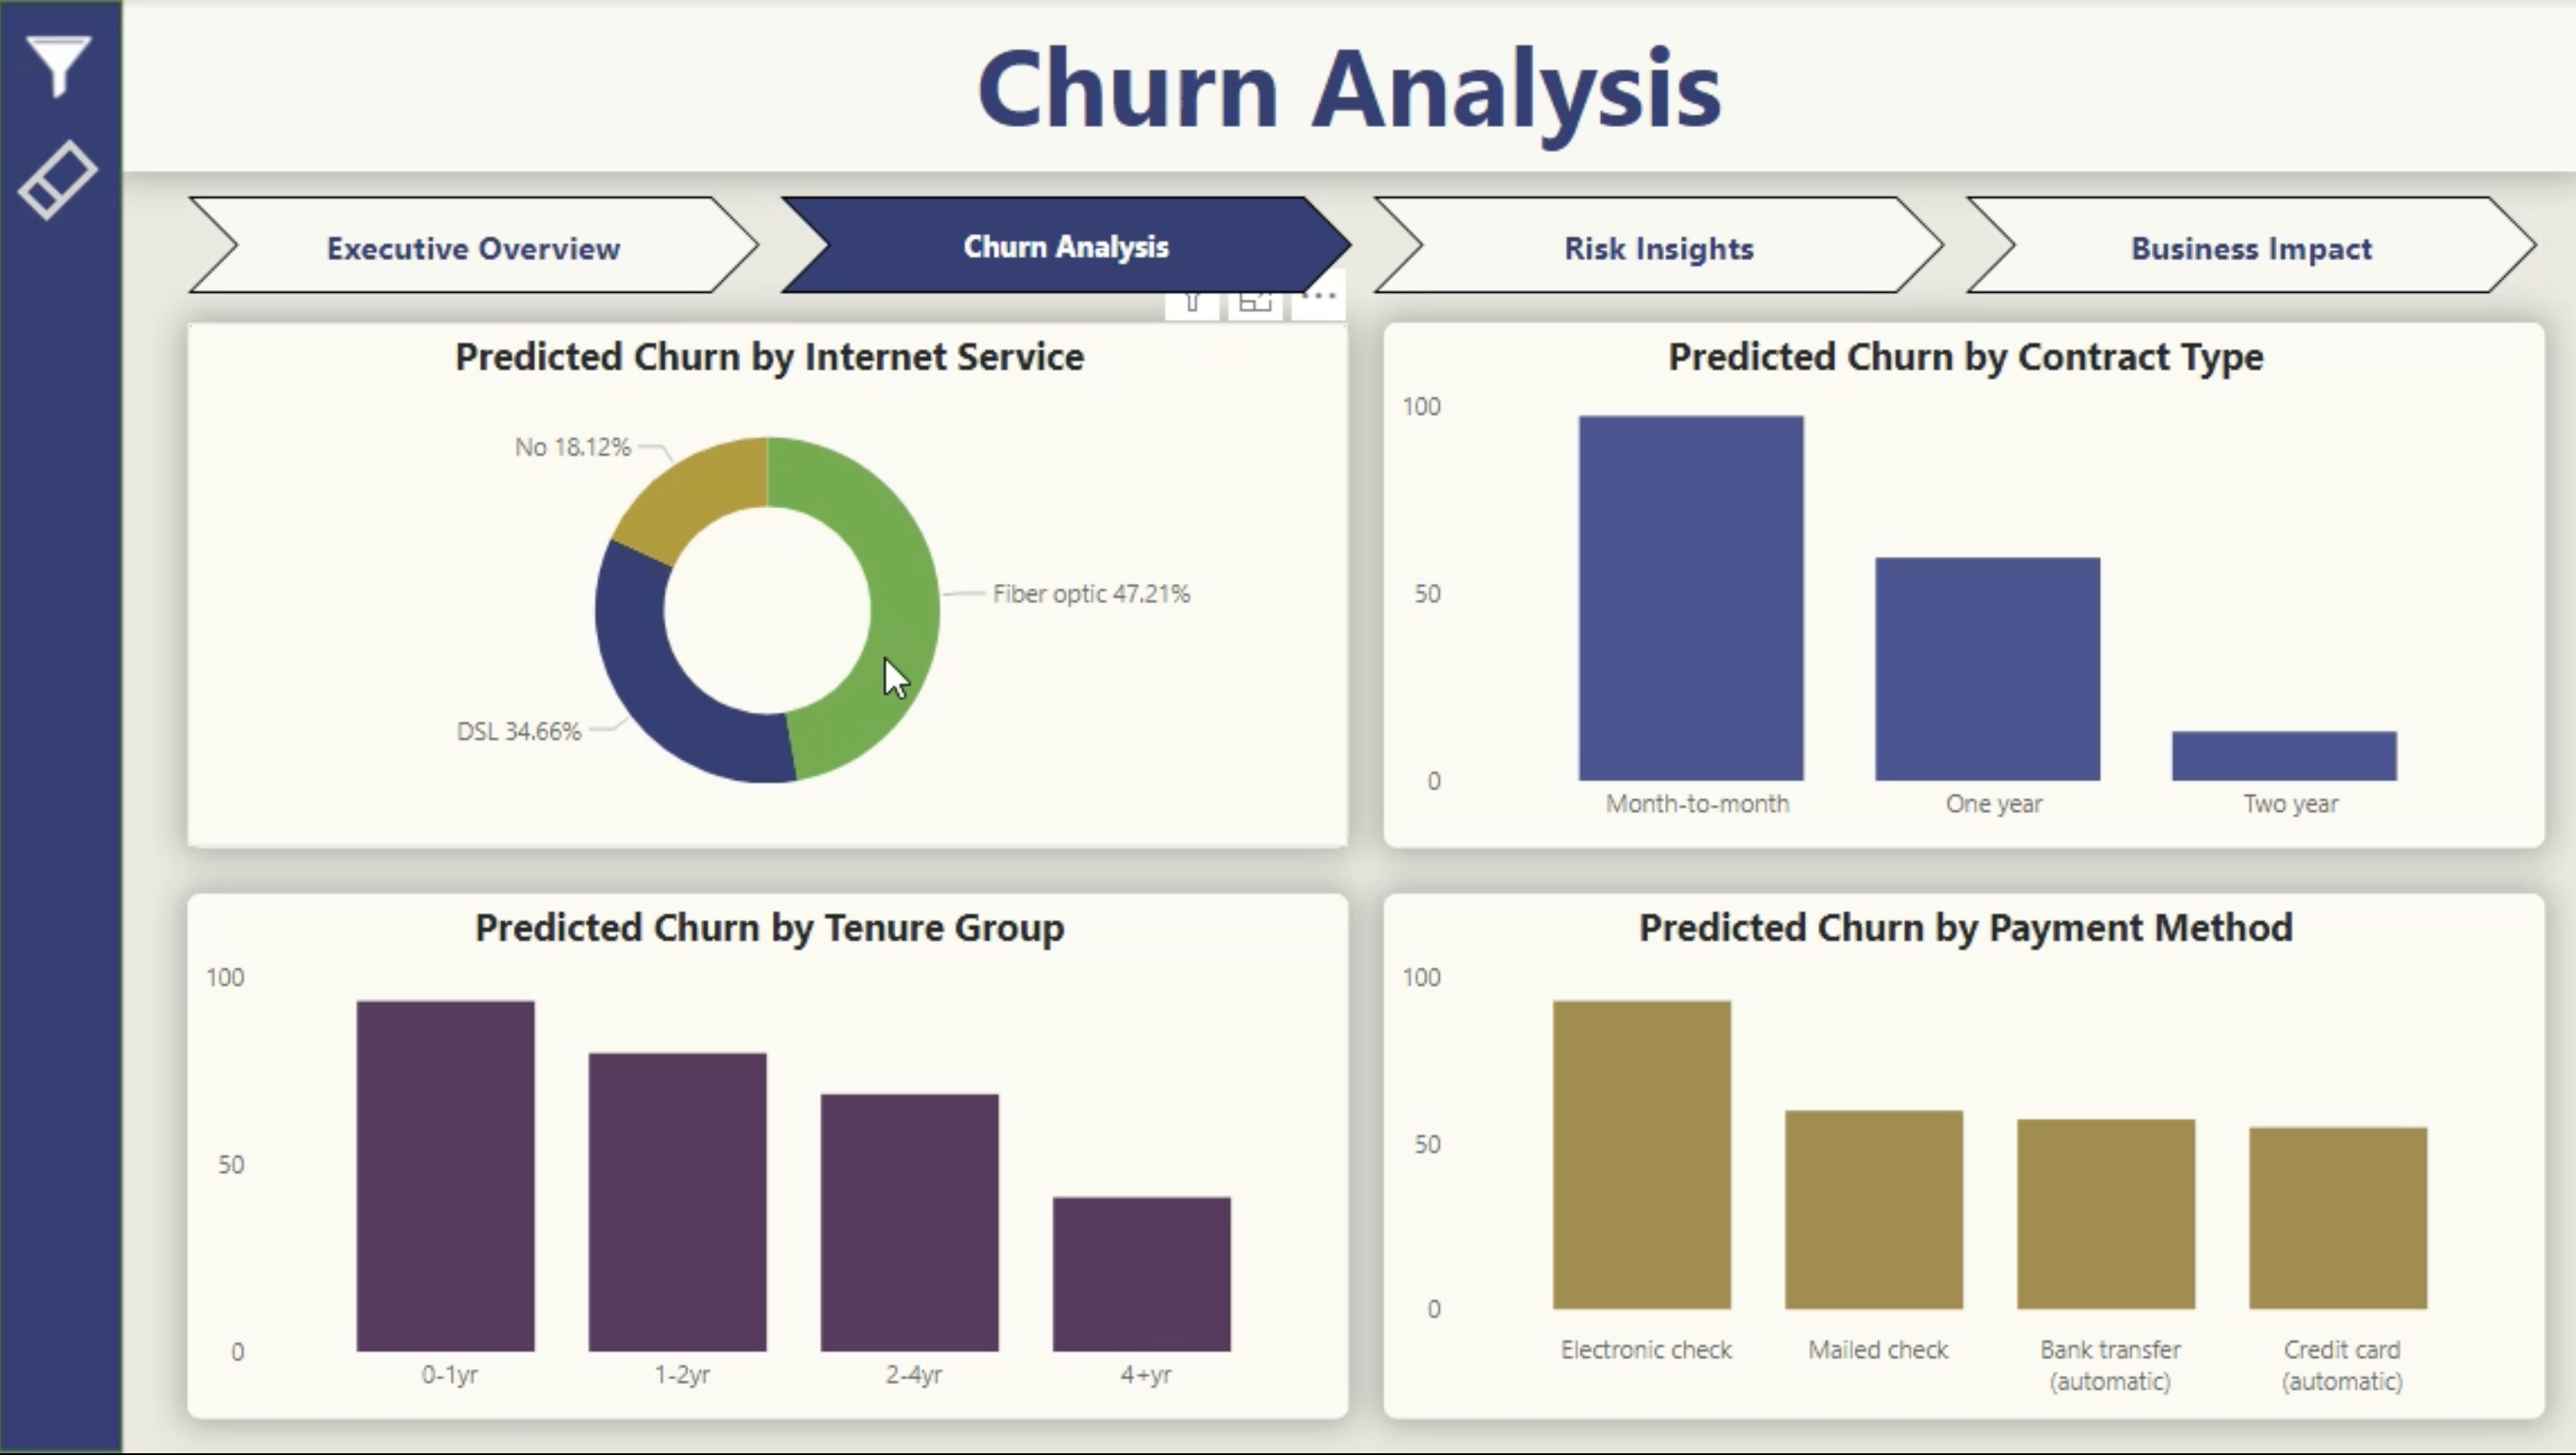

The page's visual inventory and layout, read from the dashboard file:
{"tool":"powerbi","page":{"name":"Churn Analysis","canvas":[1280,720],"ordinal":1},"visuals":[{"type":"donutChart","title":"Predicted Churn by Internet Service","fields":{"Category":["customer_churn_predictions.InternetService"],"Y":["Measure_Table.Predicted Churn Rate %"]},"box":[94.1,159.7,575.6,260],"z":0},{"type":"clusteredColumnChart","title":"Predicted Churn by Payment Method","fields":{"Y":["Measure_Table.Predicted Churn Rate %"],"Category":["customer_churn_predictions.PaymentMethod"]},"box":[687,443.2,575.6,260],"z":1000},{"type":"columnChart","title":"Predicted Churn by Contract Type","fields":{"Category":["customer_churn_predictions.Contract"],"Y":["Measure_Table.Predicted Churn Rate %"]},"box":[687,159.7,575.6,260],"z":2000},{"type":"textbox","box":[60.4,0,1219.6,85.2],"z":3000},{"type":"clusteredColumnChart","title":"Predicted Churn by Tenure Group","fields":{"Category":["customer_churn_predictions.tenure_group"],"Y":["Measure_Table.Predicted Churn Rate %"]},"box":[94.1,443.2,575.6,260],"z":6000},{"type":"pageNavigator","box":[94.1,97.8,1168.6,48.3],"z":7000},{"type":"shape","box":[0,0,61.8,719.7],"z":8000},{"type":"actionButton","title":"Clear Filters","box":[0,64.5,60.4,49.4],"z":9500},{"type":"actionButton","box":[0,0,60.4,64.5],"z":11001}]}

Visuals, with their boxes on the page's 1280x720 design canvas (x1, y1, x2, y2). These are canvas units, not pixel positions in the 2576x1455 screenshot, which may show the page scaled, cropped or inside an application window:
"Predicted Churn by Internet Service" donutChart: <bbox>94, 160, 670, 420</bbox>
"Predicted Churn by Payment Method" clusteredColumnChart: <bbox>687, 443, 1263, 703</bbox>
"Predicted Churn by Contract Type" columnChart: <bbox>687, 160, 1263, 420</bbox>
textbox: <bbox>60, 0, 1280, 85</bbox>
"Predicted Churn by Tenure Group" clusteredColumnChart: <bbox>94, 443, 670, 703</bbox>
pageNavigator: <bbox>94, 98, 1263, 146</bbox>
shape: <bbox>0, 0, 62, 720</bbox>
"Clear Filters" actionButton: <bbox>0, 64, 60, 114</bbox>
actionButton: <bbox>0, 0, 60, 64</bbox>
